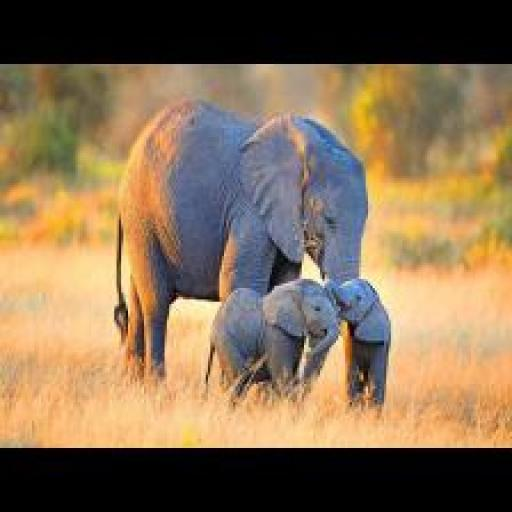Elephant: (114, 98, 392, 433)
